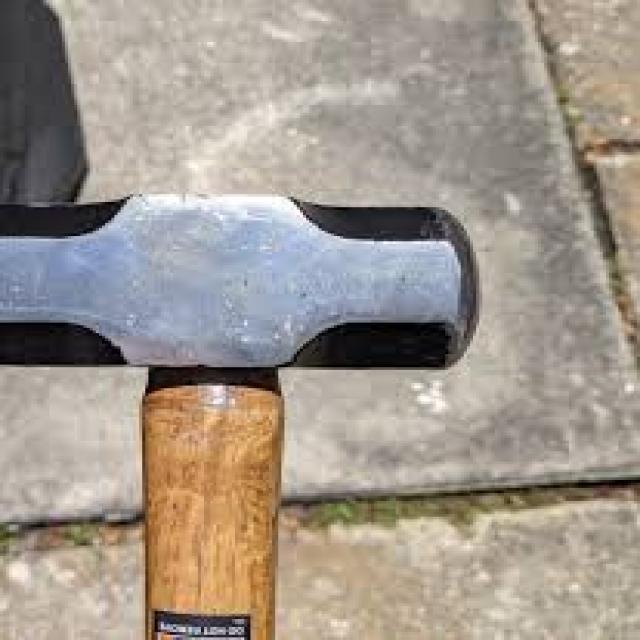hammer: (0, 189, 498, 640)
